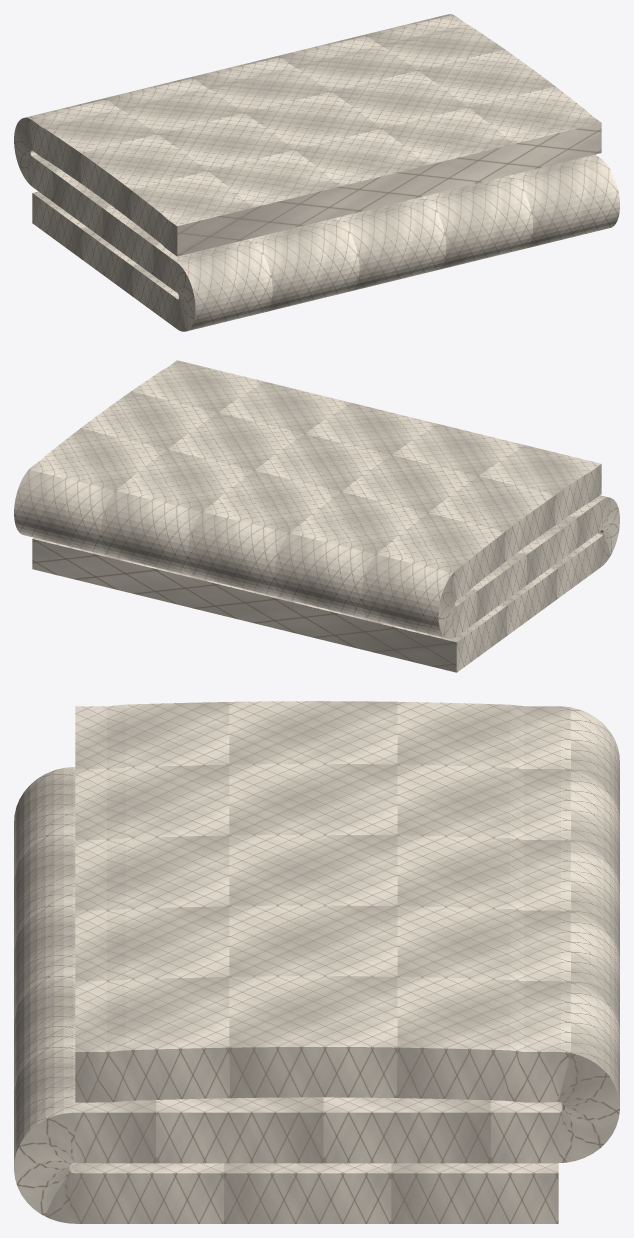
The model's file is topper.glb.
3 renders of one model, top to bottom at view 1: azimuth 30°, elevation 25°; view 2: azimuth 150°, elevation 25°; view 3: azimuth 270°, elevation 25°, orthographic. The views are drawn at different scales.
Visible parts, largest first — view 1: topper; view 2: topper; view 3: topper.
Boxes of the visible parts, x1=… form: topper: x1=14, y1=14, x2=619, y2=331; topper: x1=14, y1=360, x2=619, y2=672; topper: x1=14, y1=701, x2=619, y2=1223.
Bounding box in the file's own units: 0.88 × 0.21 × 0.6518.
Materials: 1 (1 with a texture image).
